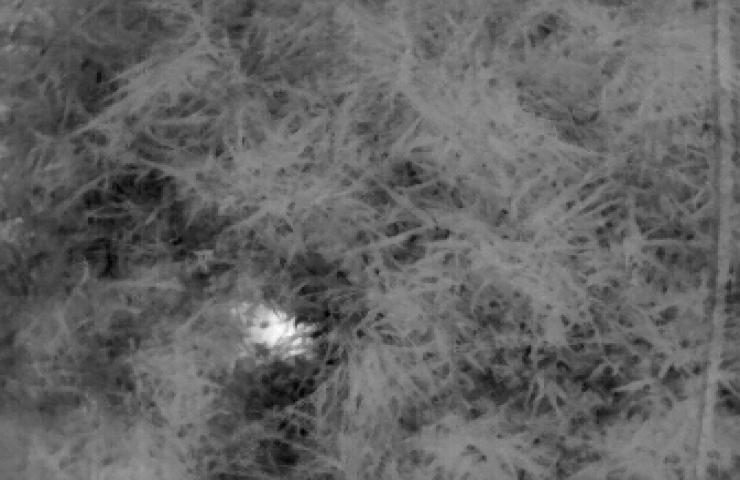landmines: (233, 299, 320, 363)
